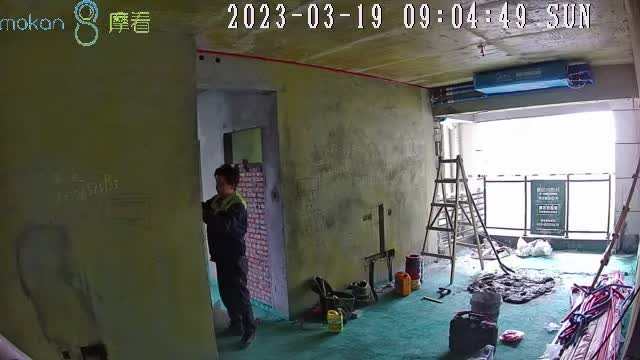people: (201, 163, 254, 348)
window: (470, 110, 615, 176), (481, 174, 609, 234)
